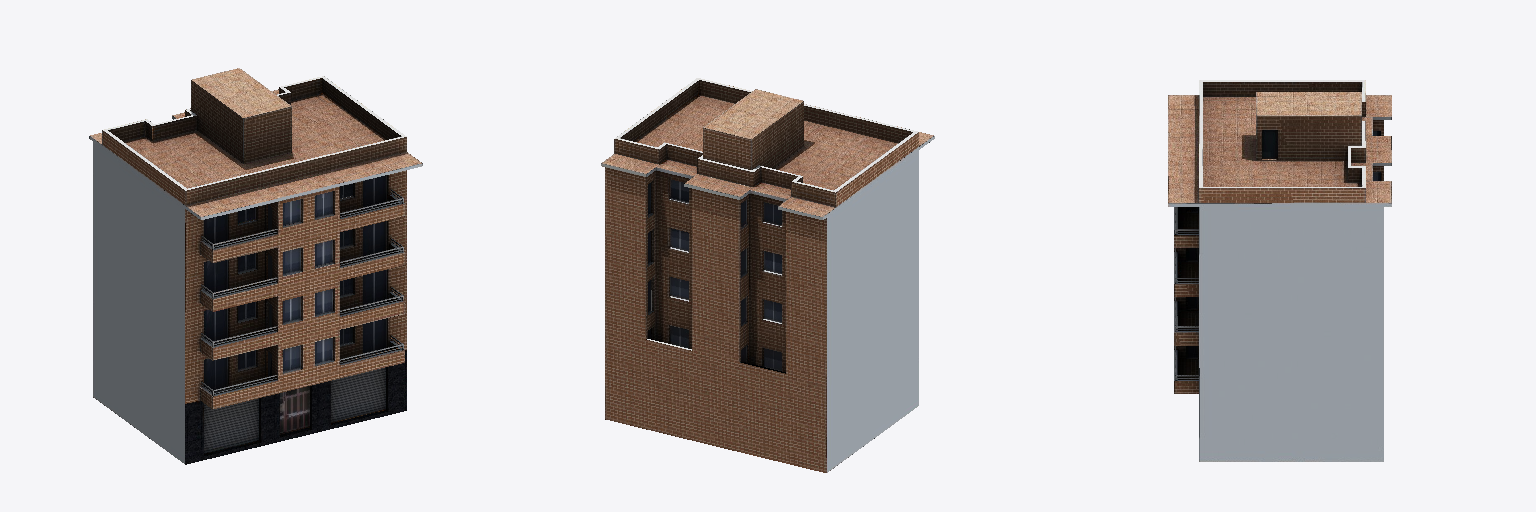
3 views of the same model, side by side, from view 1: azimuth 30°, elevation 25°; view 2: azimuth 150°, elevation 25°; view 3: azimuth 270°, elevation 25° (orthographic).
Visible parts, largest first — view 1: baseficio_Plane; view 2: baseficio_Plane; view 3: baseficio_Plane.
Part boxes in pixels (x1,y1,x2,y2): baseficio_Plane: (89, 68, 422, 464); baseficio_Plane: (601, 78, 934, 472); baseficio_Plane: (1168, 80, 1391, 461).
Size of the model in its own units: 15.23 by 20.01 by 13.3.
Materials: 1 (1 with a texture image).